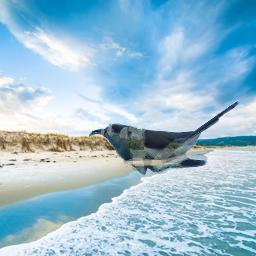Cuckoo: (89, 99, 244, 176)
